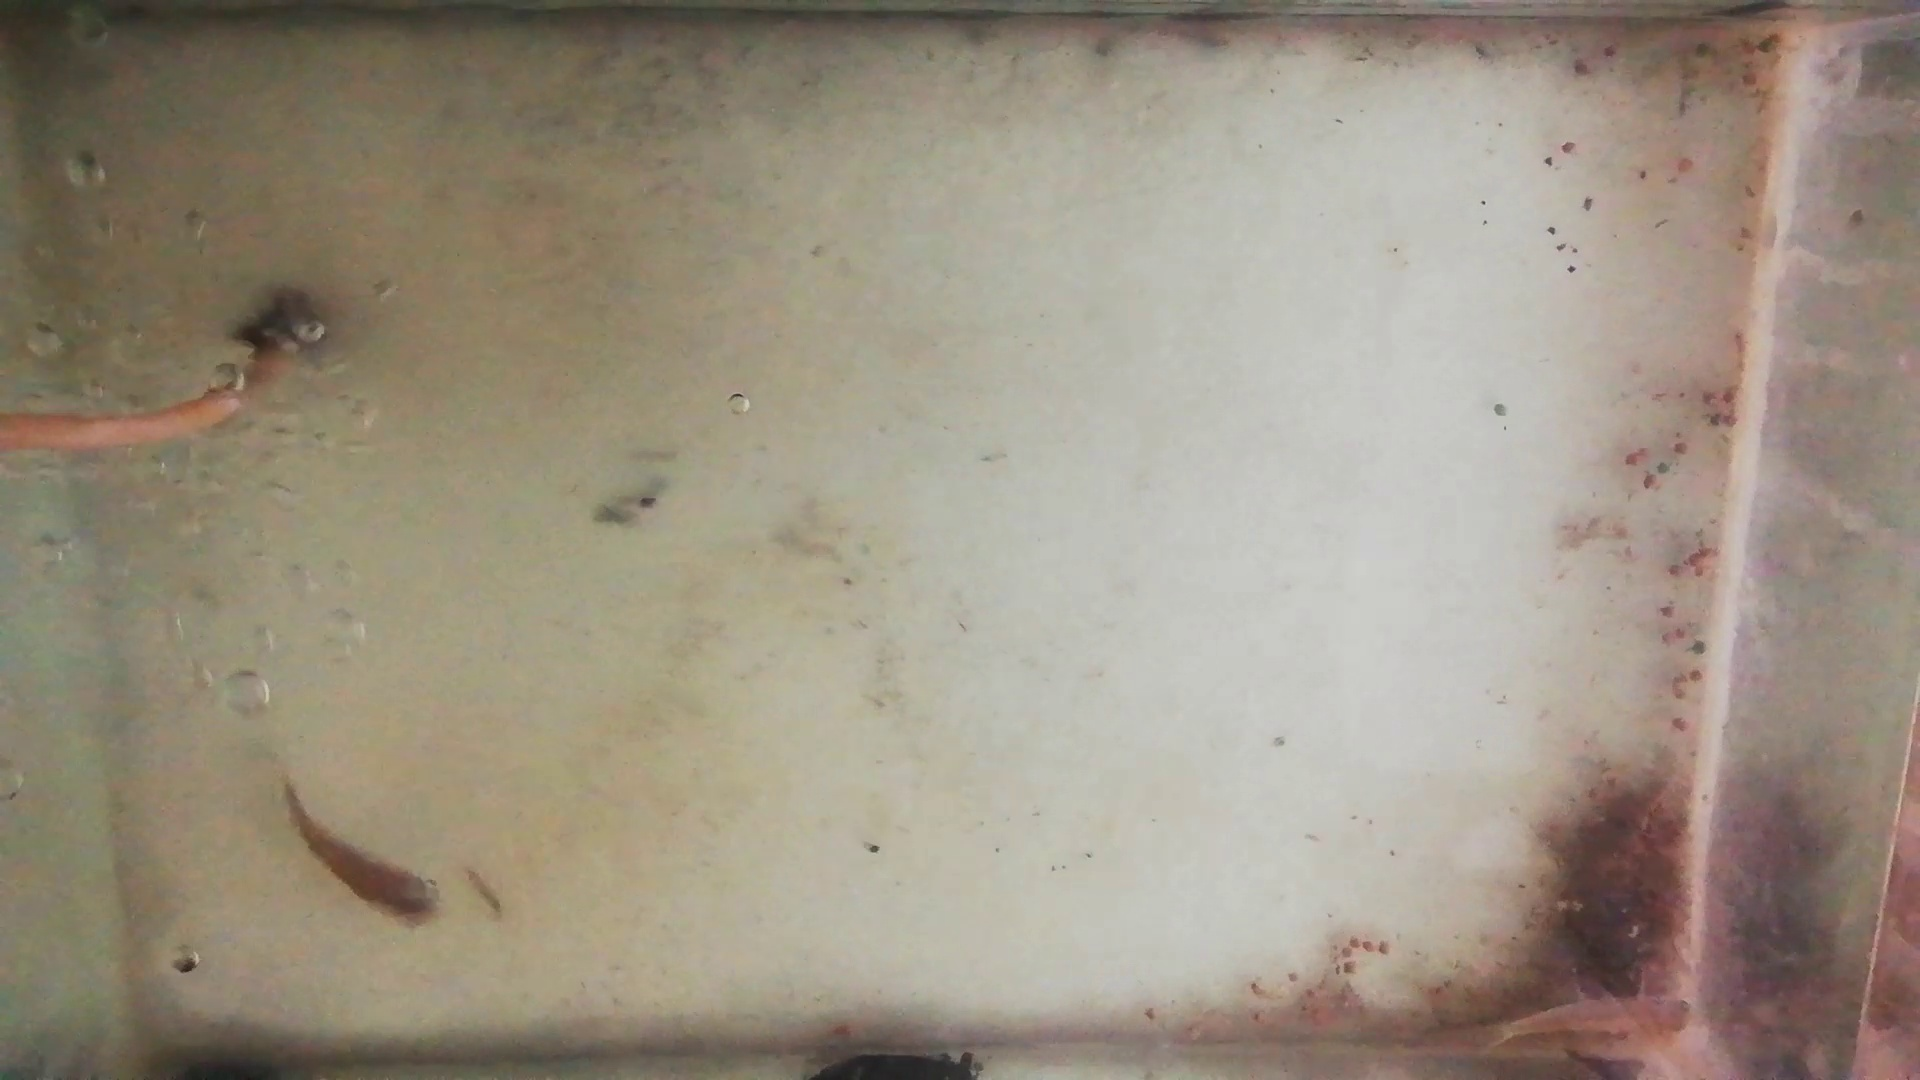fish: (280, 775, 444, 920), (1502, 998, 1704, 1036)
